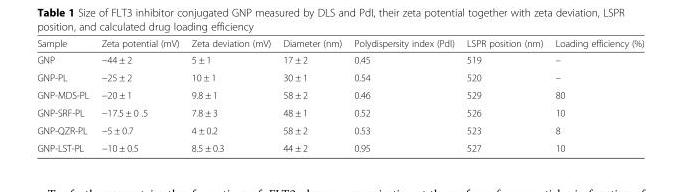table: (36, 37, 643, 153)
table column: (347, 37, 459, 153), (548, 37, 643, 153), (184, 37, 276, 153), (94, 37, 184, 153), (459, 37, 548, 153), (276, 37, 347, 153), (36, 37, 94, 153)
table column header: (36, 37, 643, 50)
table row: (36, 50, 643, 68), (36, 85, 643, 103), (36, 103, 643, 121), (36, 68, 643, 85), (36, 121, 643, 138), (36, 138, 643, 153), (36, 37, 643, 50)
